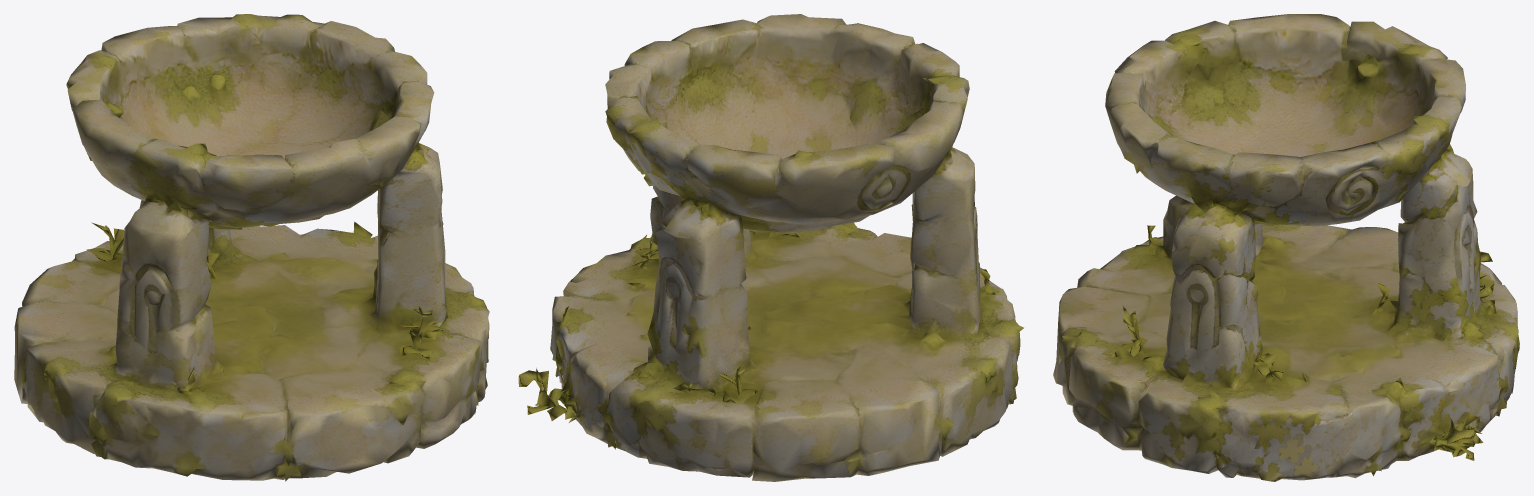
Rendered from raw.glb.
The picture shows the model from 3 angles, left to right: view 1: azimuth 30°, elevation 25°; view 2: azimuth 150°, elevation 25°; view 3: azimuth 270°, elevation 25°; orthographic projection.
Parts seen in each view (by area): view 1: tripo_node_30dff805-25f3-4233-8640-c7c640060286; view 2: tripo_node_30dff805-25f3-4233-8640-c7c640060286; view 3: tripo_node_30dff805-25f3-4233-8640-c7c640060286.
Boxes of the visible parts, x1,y1,x2,y2 form: tripo_node_30dff805-25f3-4233-8640-c7c640060286: (14,14,489,481); tripo_node_30dff805-25f3-4233-8640-c7c640060286: (518,14,1023,481); tripo_node_30dff805-25f3-4233-8640-c7c640060286: (1053,14,1519,481).
Bounding box in the file's own units: 1 × 0.7084 × 0.9986.
Materials: 1 (1 with a texture image).
